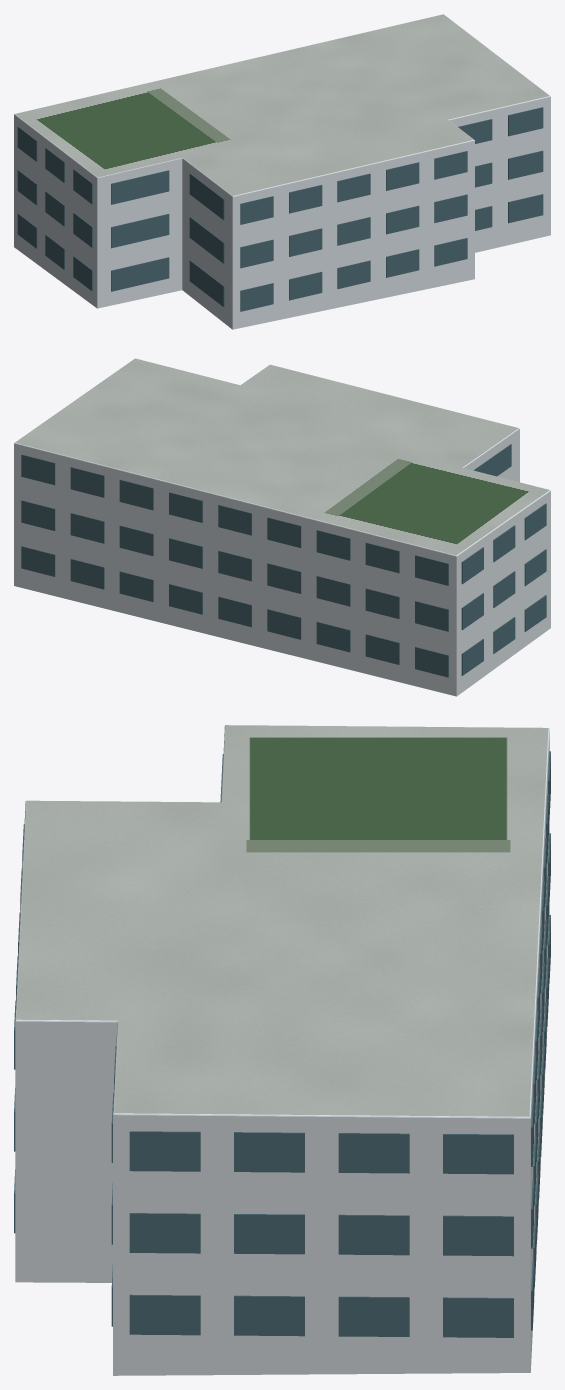
Rendered from fragments.glb.
3 renders of one model, top to bottom at view 1: azimuth 30°, elevation 25°; view 2: azimuth 150°, elevation 25°; view 3: azimuth 270°, elevation 25°, orthographic. The views are drawn at different scales.
Visible parts, largest first — view 1: SM_osm-468931893_Fragment_011, SM_osm-468931893_Fragment_021, SM_osm-468931893_Fragment_043, SM_osm-468931893_Fragment_032, SM_osm-468931893_Fragment_000, SM_osm-468931893_Fragment_013, SM_osm-468931893_Fragment_001, SM_osm-468931893_Fragment_023, SM_osm-468931893_Fragment_028, SM_osm-468931893_Fragment_055, SM_osm-468931893_Fragment_005, SM_osm-468931893_Fragment_010 (+25 smaller); view 2: SM_osm-468931893_Fragment_018, SM_osm-468931893_Fragment_009, SM_osm-468931893_Fragment_034, SM_osm-468931893_Fragment_001, SM_osm-468931893_Fragment_053, SM_osm-468931893_Fragment_024, SM_osm-468931893_Fragment_014, SM_osm-468931893_Fragment_047, SM_osm-468931893_Fragment_062, SM_osm-468931893_Fragment_002, SM_osm-468931893_Fragment_021, SM_osm-468931893_Fragment_036 (+24 smaller); view 3: SM_osm-468931893_Fragment_015, SM_osm-468931893_Fragment_060, SM_osm-468931893_Fragment_036, SM_osm-468931893_Fragment_045, SM_osm-468931893_Fragment_005, SM_osm-468931893_Fragment_021, SM_osm-468931893_Fragment_048, SM_osm-468931893_Fragment_006, SM_osm-468931893_Fragment_002, SM_osm-468931893_Fragment_022, SM_osm-468931893_Fragment_013, SM_osm-468931893_Fragment_004 (+21 smaller).
Part boxes in pixels (x1,y1,x2,y2): SM_osm-468931893_Fragment_011: (45, 208, 169, 308); SM_osm-468931893_Fragment_021: (189, 148, 331, 220); SM_osm-468931893_Fragment_043: (211, 196, 322, 285); SM_osm-468931893_Fragment_032: (316, 144, 406, 253); SM_osm-468931893_Fragment_000: (337, 205, 433, 306); SM_osm-468931893_Fragment_013: (358, 122, 468, 208); SM_osm-468931893_Fragment_001: (14, 117, 107, 231); SM_osm-468931893_Fragment_023: (71, 148, 169, 229); SM_osm-468931893_Fragment_028: (111, 183, 200, 265); SM_osm-468931893_Fragment_055: (477, 150, 550, 233); SM_osm-468931893_Fragment_005: (192, 112, 300, 162); SM_osm-468931893_Fragment_010: (156, 216, 230, 312); SM_osm-468931893_Fragment_018: (261, 482, 383, 595); SM_osm-468931893_Fragment_009: (57, 439, 162, 547); SM_osm-468931893_Fragment_034: (346, 508, 461, 588); SM_osm-468931893_Fragment_001: (436, 506, 531, 618); SM_osm-468931893_Fragment_053: (96, 525, 182, 626); SM_osm-468931893_Fragment_024: (408, 593, 502, 696); SM_osm-468931893_Fragment_014: (196, 475, 284, 581); SM_osm-468931893_Fragment_047: (348, 575, 457, 664); SM_osm-468931893_Fragment_062: (141, 450, 214, 568); SM_osm-468931893_Fragment_002: (14, 528, 104, 604); SM_osm-468931893_Fragment_021: (379, 402, 519, 476); SM_osm-468931893_Fragment_036: (14, 431, 72, 536); SM_osm-468931893_Fragment_015: (234, 1052, 479, 1267); SM_osm-468931893_Fragment_060: (234, 1262, 440, 1374); SM_osm-468931893_Fragment_036: (422, 1079, 533, 1284); SM_osm-468931893_Fragment_045: (114, 1041, 311, 1194); SM_osm-468931893_Fragment_005: (148, 815, 373, 908); SM_osm-468931893_Fragment_021: (20, 800, 177, 909); SM_osm-468931893_Fragment_048: (14, 1014, 114, 1178); SM_osm-468931893_Fragment_006: (239, 950, 425, 1046); SM_osm-468931893_Fragment_002: (398, 1205, 536, 1373); SM_osm-468931893_Fragment_022: (14, 1154, 112, 1282); SM_osm-468931893_Fragment_013: (14, 936, 158, 1069); SM_osm-468931893_Fragment_004: (111, 1076, 223, 1240).
Bounding box in the file's own units: 2.2 × 0.6824 × 1.27.
Materials: 5 (1 with a texture image).
